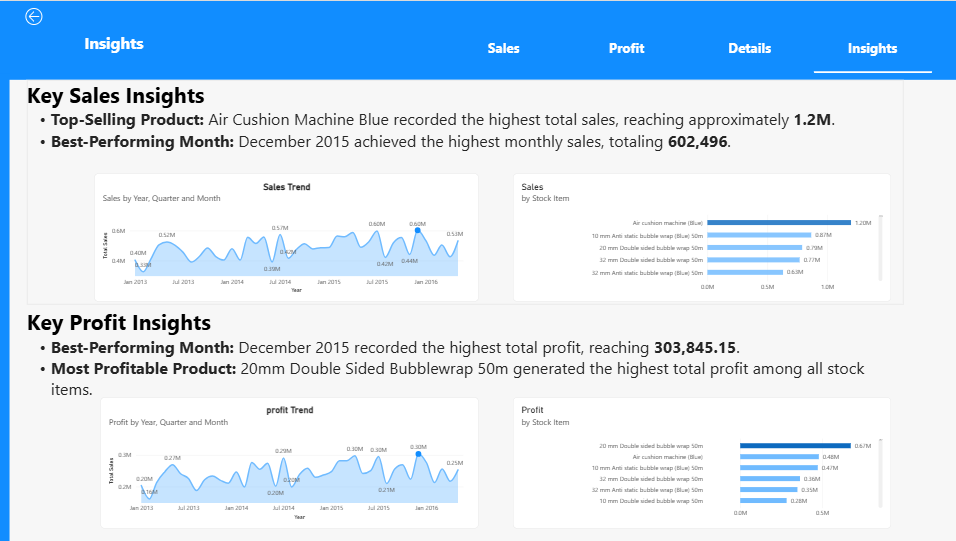

The page's visual inventory and layout, read from the dashboard file:
{"tool":"powerbi","page":{"name":"Insights","canvas":[1920,1080],"ordinal":3},"visuals":[{"type":"shape","box":[0,0,1919.2,157.7],"z":0},{"type":"shape","box":[0,144.2,23.1,936.5],"z":1000},{"type":"textbox","box":[10.7,62.5,442.9,64.3],"z":2000},{"type":"actionButton","box":[0,0,144,62],"z":3000},{"type":"pageNavigator","box":[892,42,978,102],"z":4000},{"type":"textbox","box":[56.2,158.3,1755.4,450],"z":4001},{"type":"lineChart","title":"Sales Trend","fields":{"Category":["DimDate.Date.Variation.Date Hierarchy.Year","DimDate.Date.Variation.Date Hierarchy.Quarter","DimDate.Date.Variation.Date Hierarchy.Month","DimDate.Date.Variation.Date Hierarchy.Day"],"Y":["Sum(FactSale.Total Excluding Tax)"]},"box":[191.7,343.8,768.8,256.2],"z":4002},{"type":"barChart","fields":{"Category":["DimStockitem.Stock Item"],"Y":["Sum(FactSale.Total Excluding Tax)"]},"box":[1029.2,343.8,756.2,256.2],"z":4003},{"type":"textbox","box":[58.3,612.5,1755,441],"z":4004},{"type":"lineChart","title":"profit Trend","fields":{"Category":["DimDate.Date.Variation.Date Hierarchy.Year","DimDate.Date.Variation.Date Hierarchy.Quarter","DimDate.Date.Variation.Date Hierarchy.Month","DimDate.Date.Variation.Date Hierarchy.Day"],"Y":["Sum(FactSale.Profit)"]},"box":[204.2,791.7,756.2,262.5],"z":4005},{"type":"barChart","fields":{"Category":["DimStockitem.Stock Item"],"Y":["Sum(FactSale.Profit)"]},"box":[1029.2,791.7,756.2,262.5],"z":4006}]}

Visuals, with their boxes on the page's 1920x1080 design canvas (x1, y1, x2, y2). These are canvas units, not pixel positions in the 956x541 screenshot, which may show the page scaled, cropped or inside an application window:
shape: pyautogui.locateOnScreen(0, 0, 1919, 158)
shape: pyautogui.locateOnScreen(0, 144, 23, 1081)
textbox: pyautogui.locateOnScreen(11, 62, 454, 127)
actionButton: pyautogui.locateOnScreen(0, 0, 144, 62)
pageNavigator: pyautogui.locateOnScreen(892, 42, 1870, 144)
textbox: pyautogui.locateOnScreen(56, 158, 1812, 608)
"Sales Trend" lineChart: pyautogui.locateOnScreen(192, 344, 960, 600)
barChart - DimStockitem.Stock Item x Sum(FactSale.Total Excluding Tax): pyautogui.locateOnScreen(1029, 344, 1785, 600)
textbox: pyautogui.locateOnScreen(58, 612, 1813, 1054)
"profit Trend" lineChart: pyautogui.locateOnScreen(204, 792, 960, 1054)
barChart - DimStockitem.Stock Item x Sum(FactSale.Profit): pyautogui.locateOnScreen(1029, 792, 1785, 1054)
